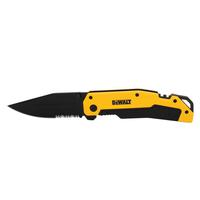knife: (3, 82, 196, 140)
